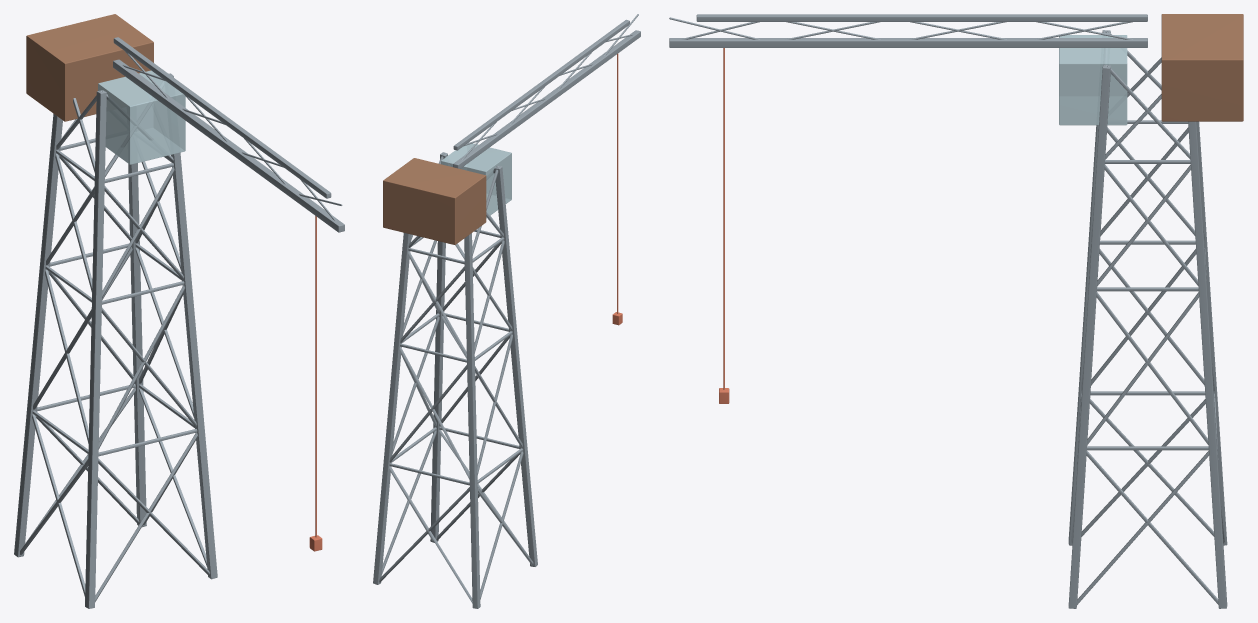
The model's file is cargo_crane.glb.
The picture shows the model from 3 angles, left to right: view 1: azimuth 30°, elevation 25°; view 2: azimuth 150°, elevation 25°; view 3: azimuth 270°, elevation 25°; orthographic projection. The views are drawn at different scales.
Visible parts, largest first — view 1: cargo_crane; view 2: cargo_crane; view 3: cargo_crane.
Boxes of the visible parts, x1,y1,x2,y2 form: cargo_crane: (14, 14, 344, 608); cargo_crane: (373, 14, 640, 608); cargo_crane: (669, 14, 1243, 608).
Bounding box in the file's own units: 2.32 × 9.06 × 8.4.
